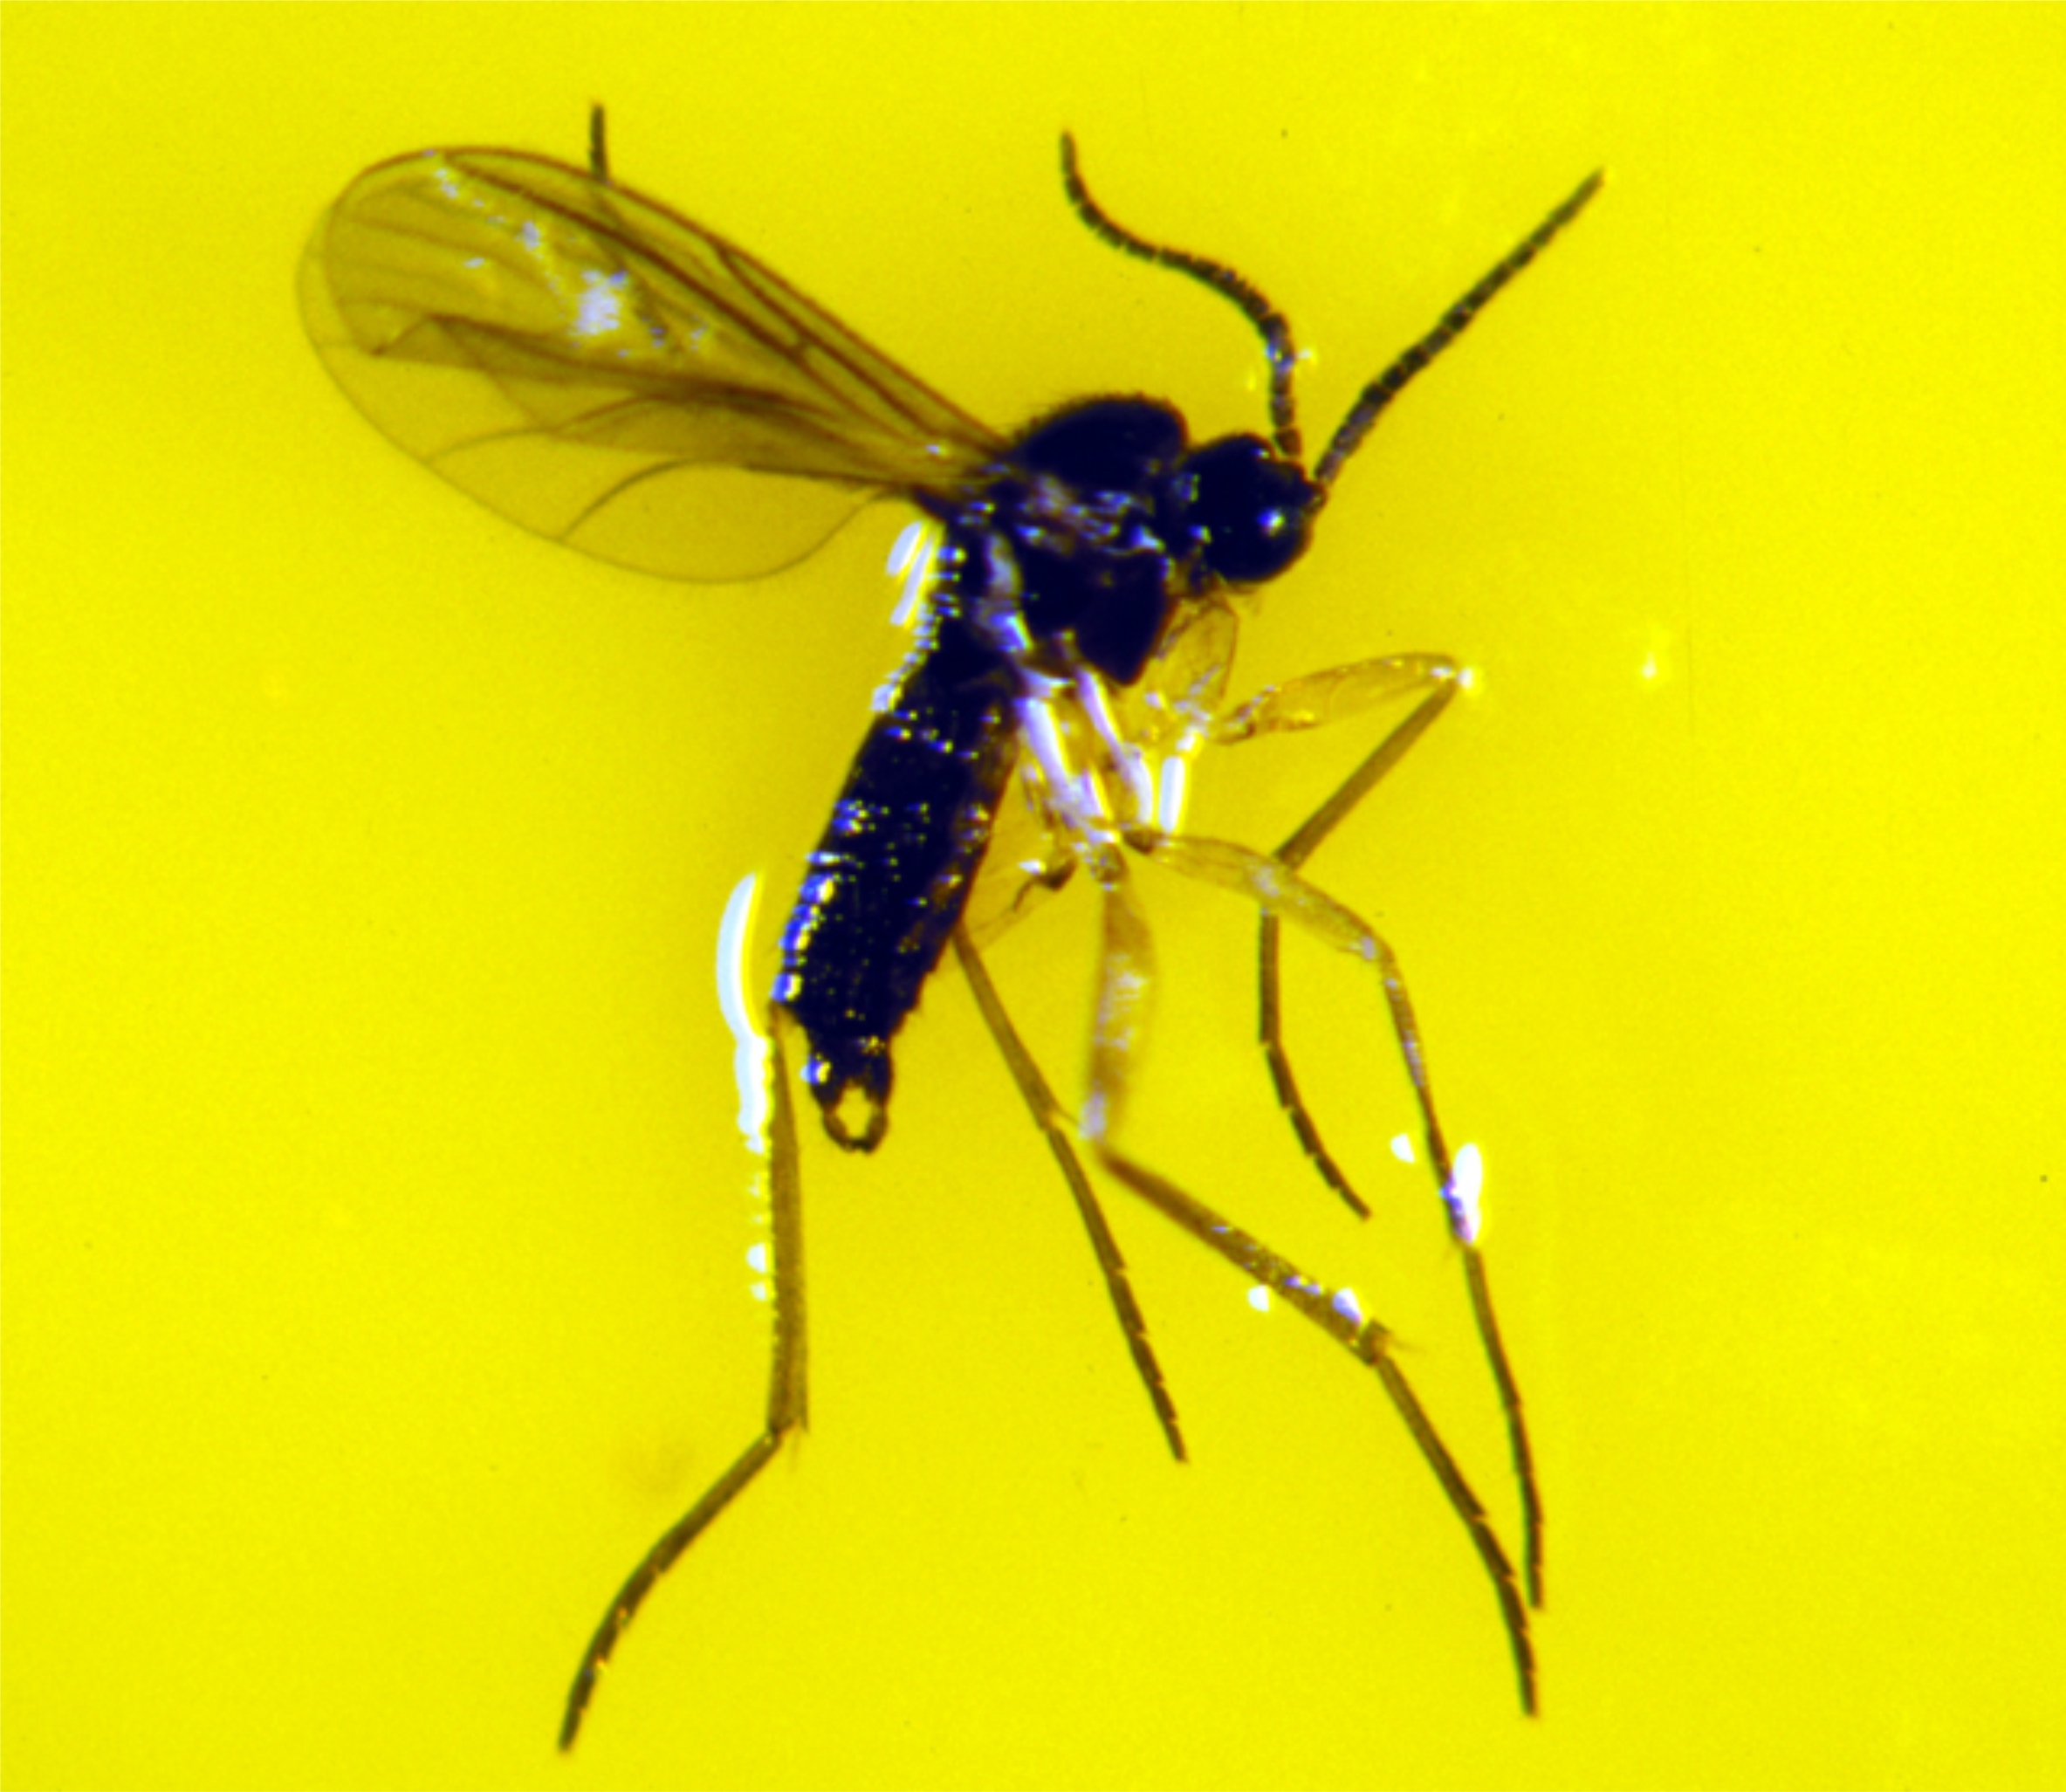Fruit fly: (225, 70, 1695, 1583)
